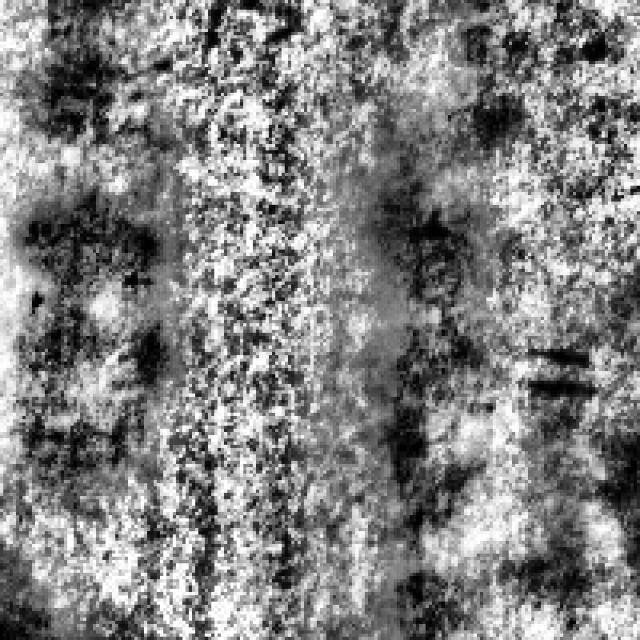Scratches: (364, 124, 506, 554), (3, 163, 166, 480), (364, 538, 502, 636)
